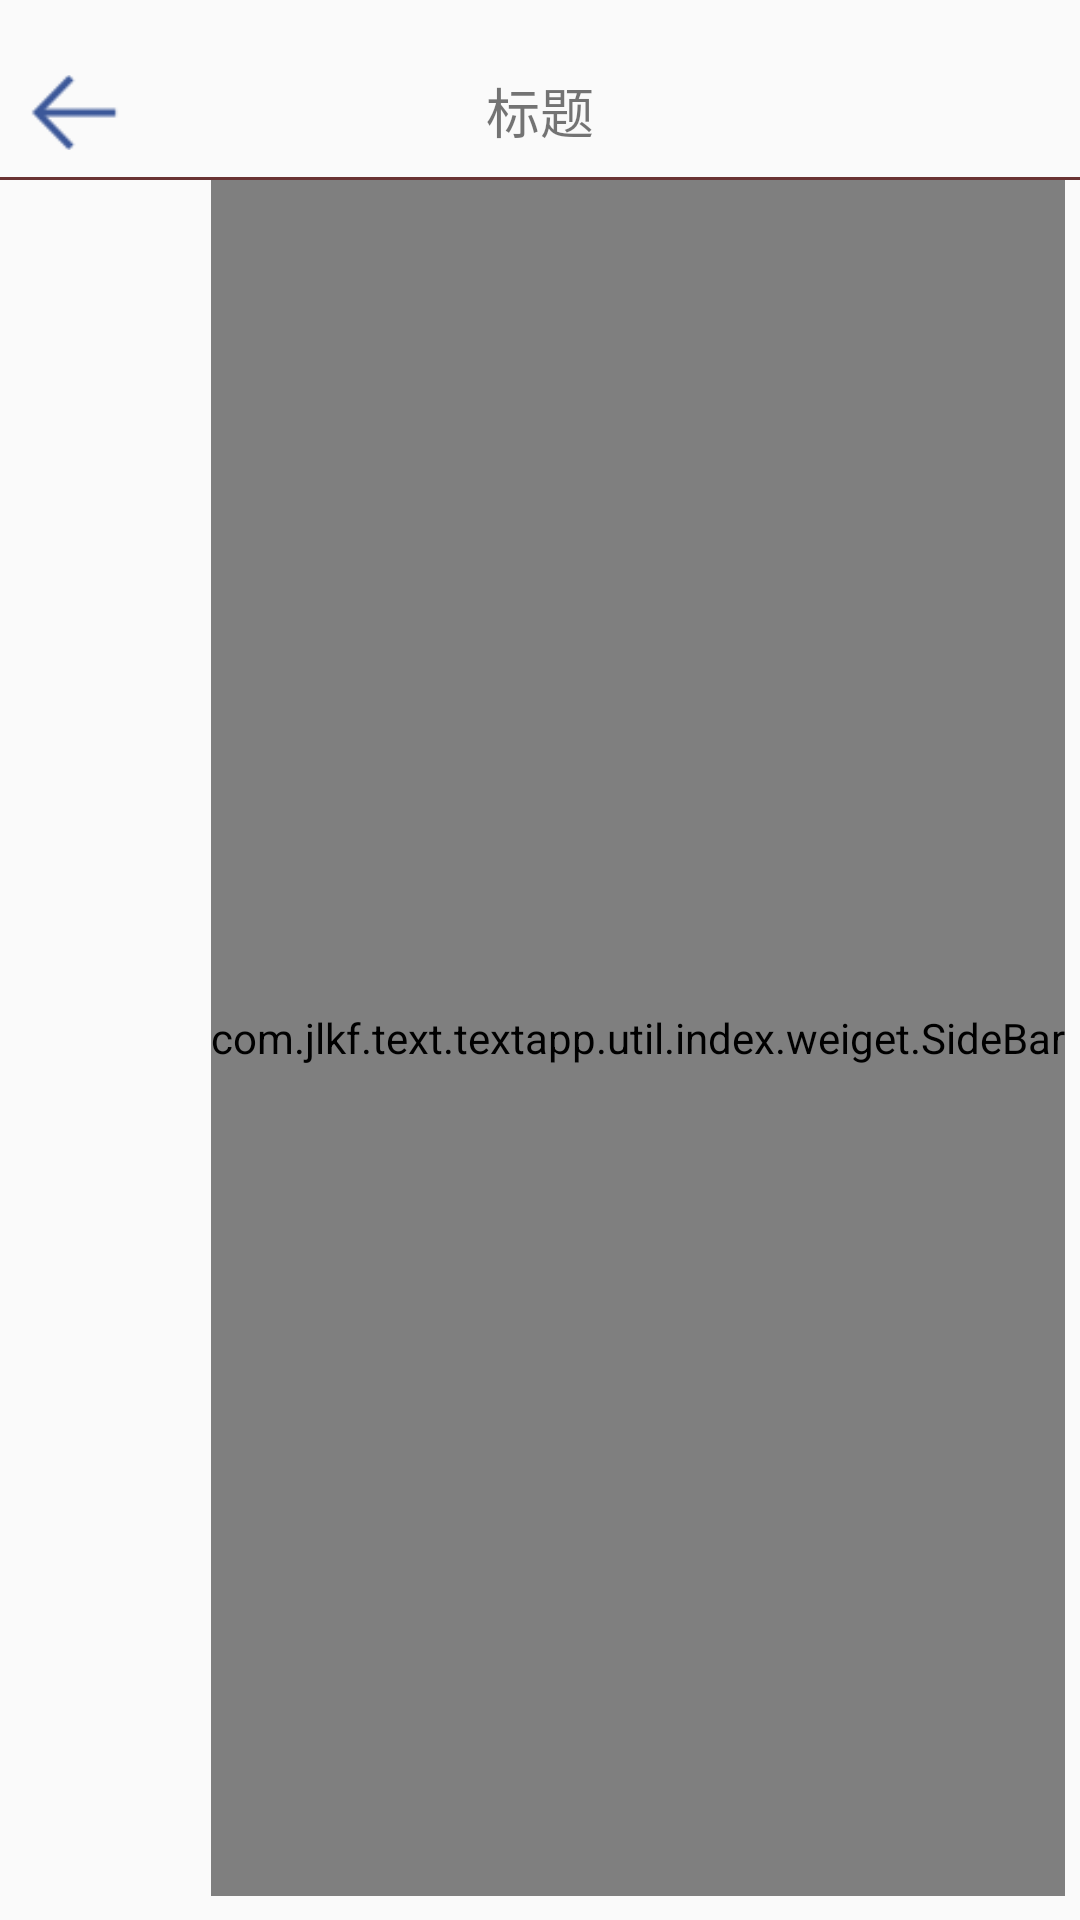

Icon click points for this 1080w x 1920h phone screenshot, format [x,y]:
back: [74,112]
